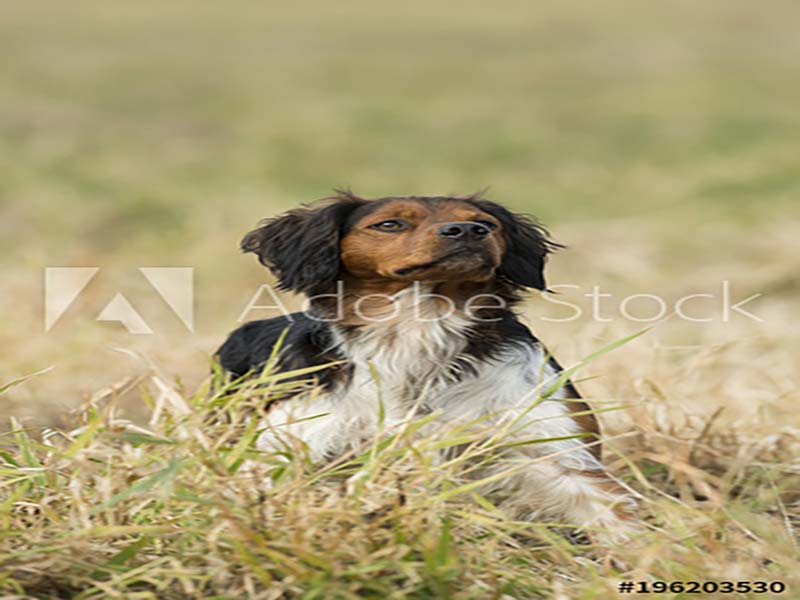cane da caccia: (237, 181, 564, 294)
